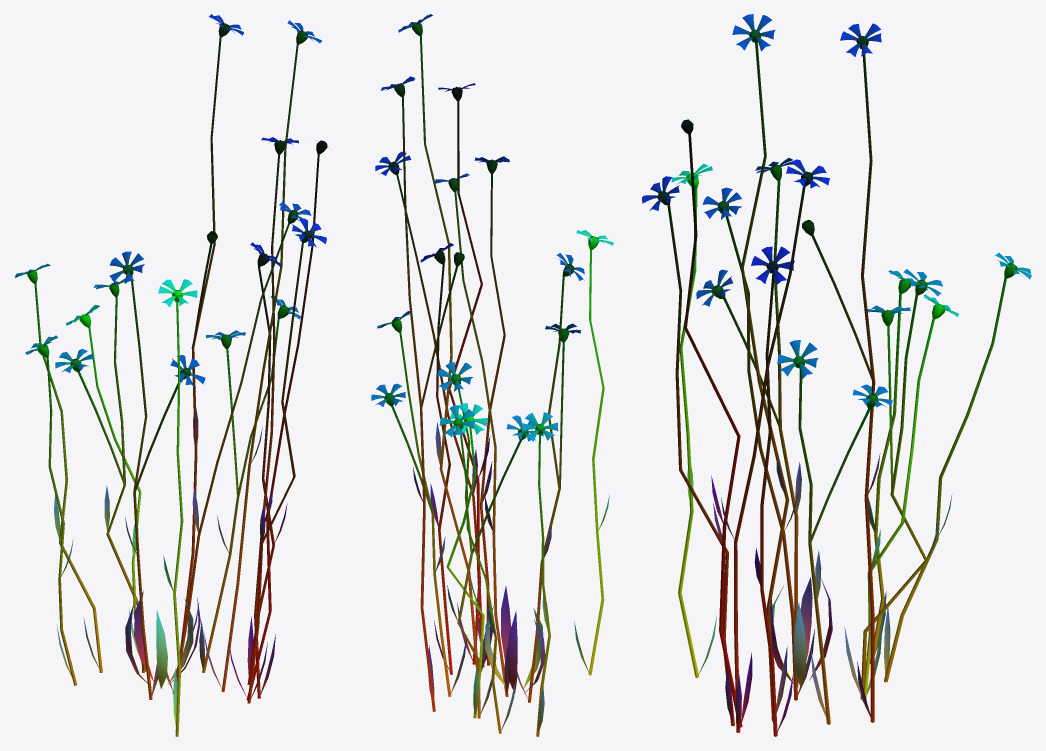
File: SM_Flower_Cornflower_C_LOD1.fbx
3 views of the same model, side by side, from view 1: azimuth 30°, elevation 25°; view 2: azimuth 150°, elevation 25°; view 3: azimuth 270°, elevation 25° (orthographic). The views are drawn at different scales.
Visible parts, largest first — view 1: SM_Flower_Cornflower_C_LOD1; view 2: SM_Flower_Cornflower_C_LOD1; view 3: SM_Flower_Cornflower_C_LOD1.
Part boxes in pixels (left/top/right/bottom): SM_Flower_Cornflower_C_LOD1: left=14, top=14, right=328, bottom=736; SM_Flower_Cornflower_C_LOD1: left=371, top=14, right=613, bottom=736; SM_Flower_Cornflower_C_LOD1: left=642, top=14, right=1031, bottom=736.
Bounding box in the file's own units: 0.2625 × 0.7288 × 0.3479.
